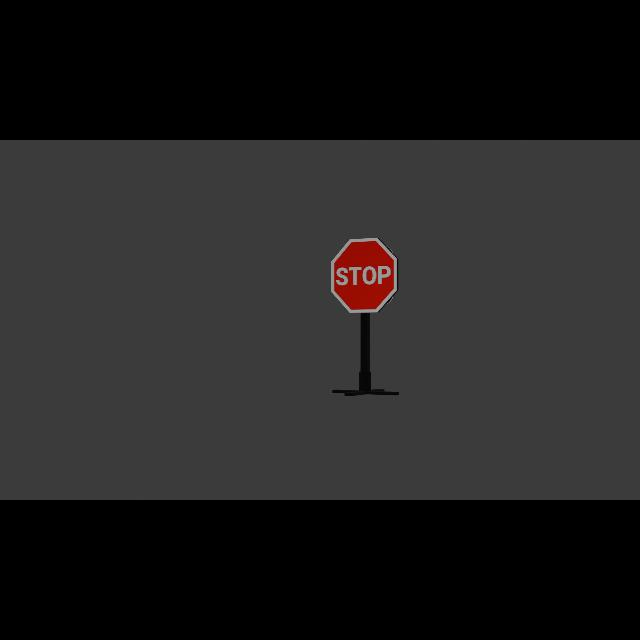sign_stop: (331, 238, 399, 314)
